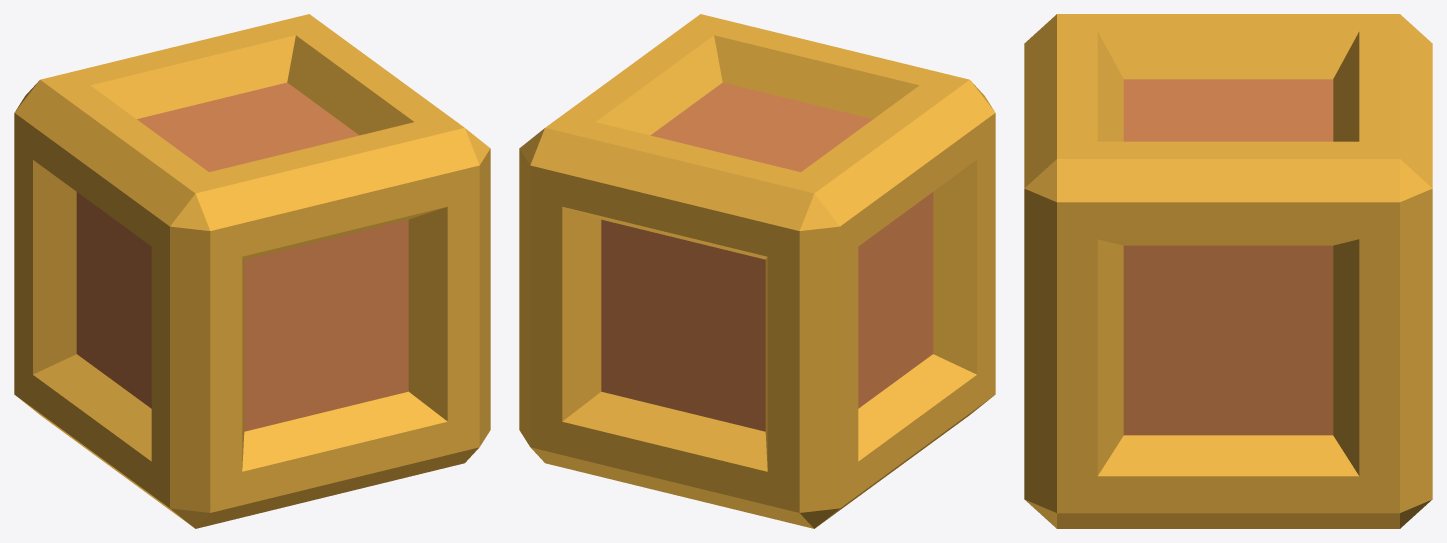
File: crateItem.obj
3 renders of one model, left to right at view 1: azimuth 30°, elevation 25°; view 2: azimuth 150°, elevation 25°; view 3: azimuth 270°, elevation 25°, orthographic. The views are drawn at different scales.
Visible parts, largest first — view 1: crateItem; view 2: crateItem; view 3: crateItem.
Part boxes in pixels (x1,y1,x2,y2): crateItem: [14, 14, 490, 528]; crateItem: [519, 14, 995, 528]; crateItem: [1024, 14, 1432, 528].
Bounding box in the file's own units: 0.5 × 0.5 × 0.5.
